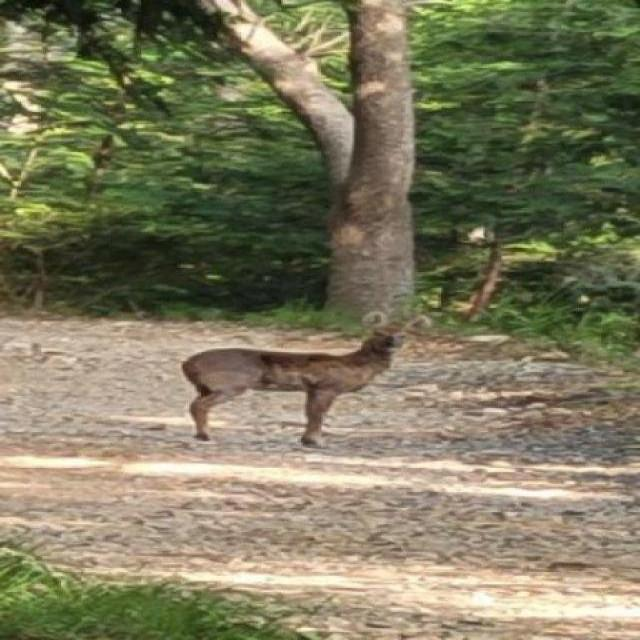deer: (168, 309, 442, 451)
